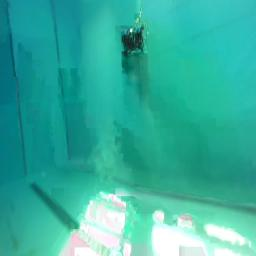front: (120, 21, 147, 57)
